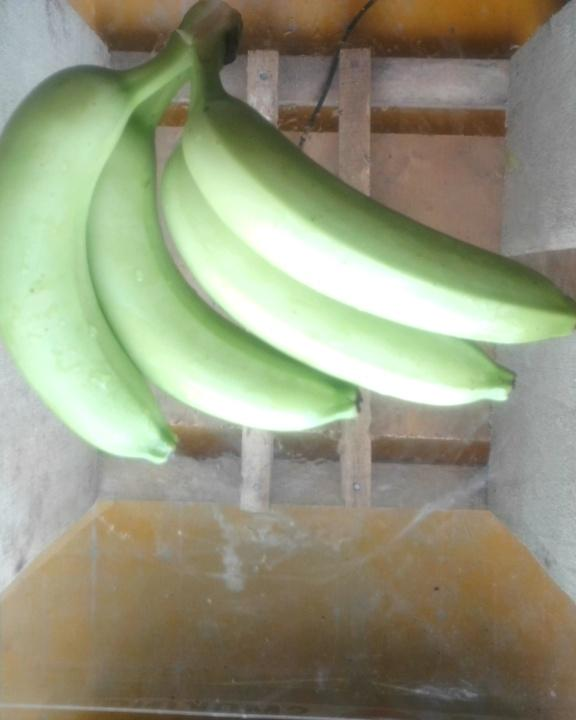SPOT: (1, 1, 574, 469)
